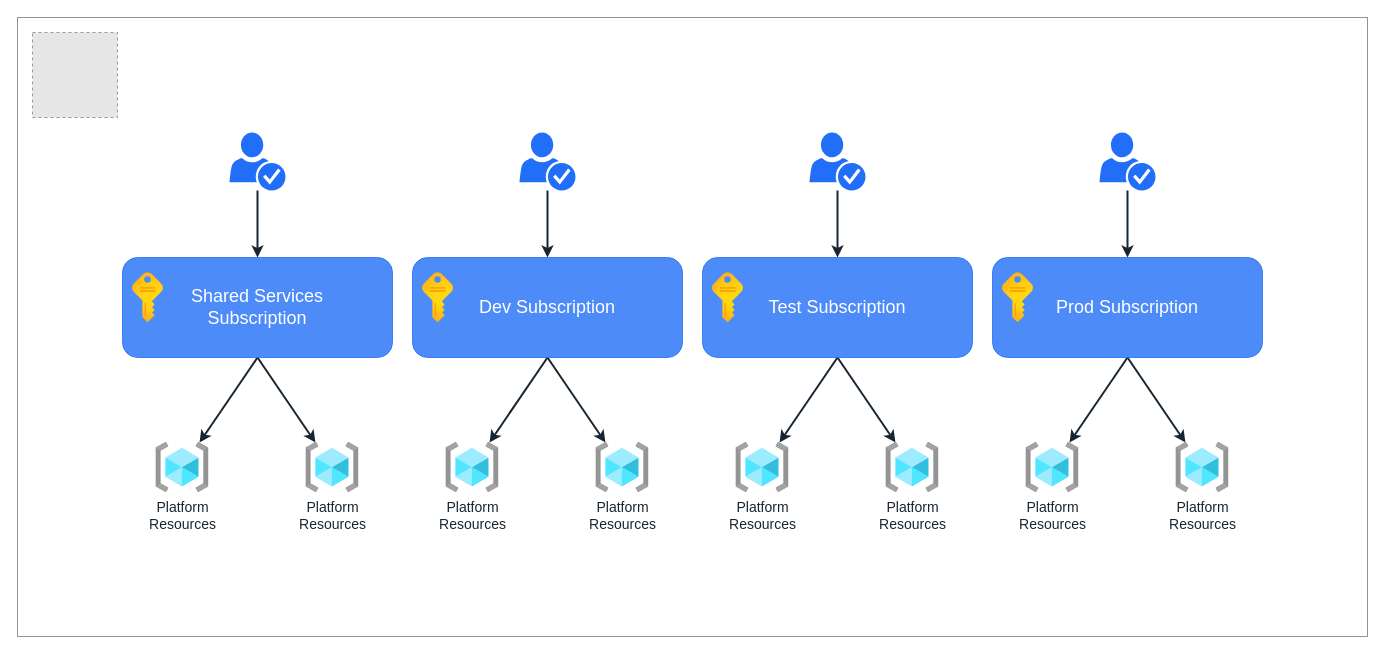
This 1385x654 diagram has some shape labels left out. Grey dashed boxes stand in for pictures. The centre of each missing label's shape, as x and y in pixels:
"Automation Service Principal (Dev)" goes at (x=547, y=161).
"Automation Service Principal (Prod)" goes at (x=1127, y=161).
"Automation Service Principal (Shared Services)" goes at (x=257, y=161).
"Automation Service Principal (Test)" goes at (x=837, y=161).
